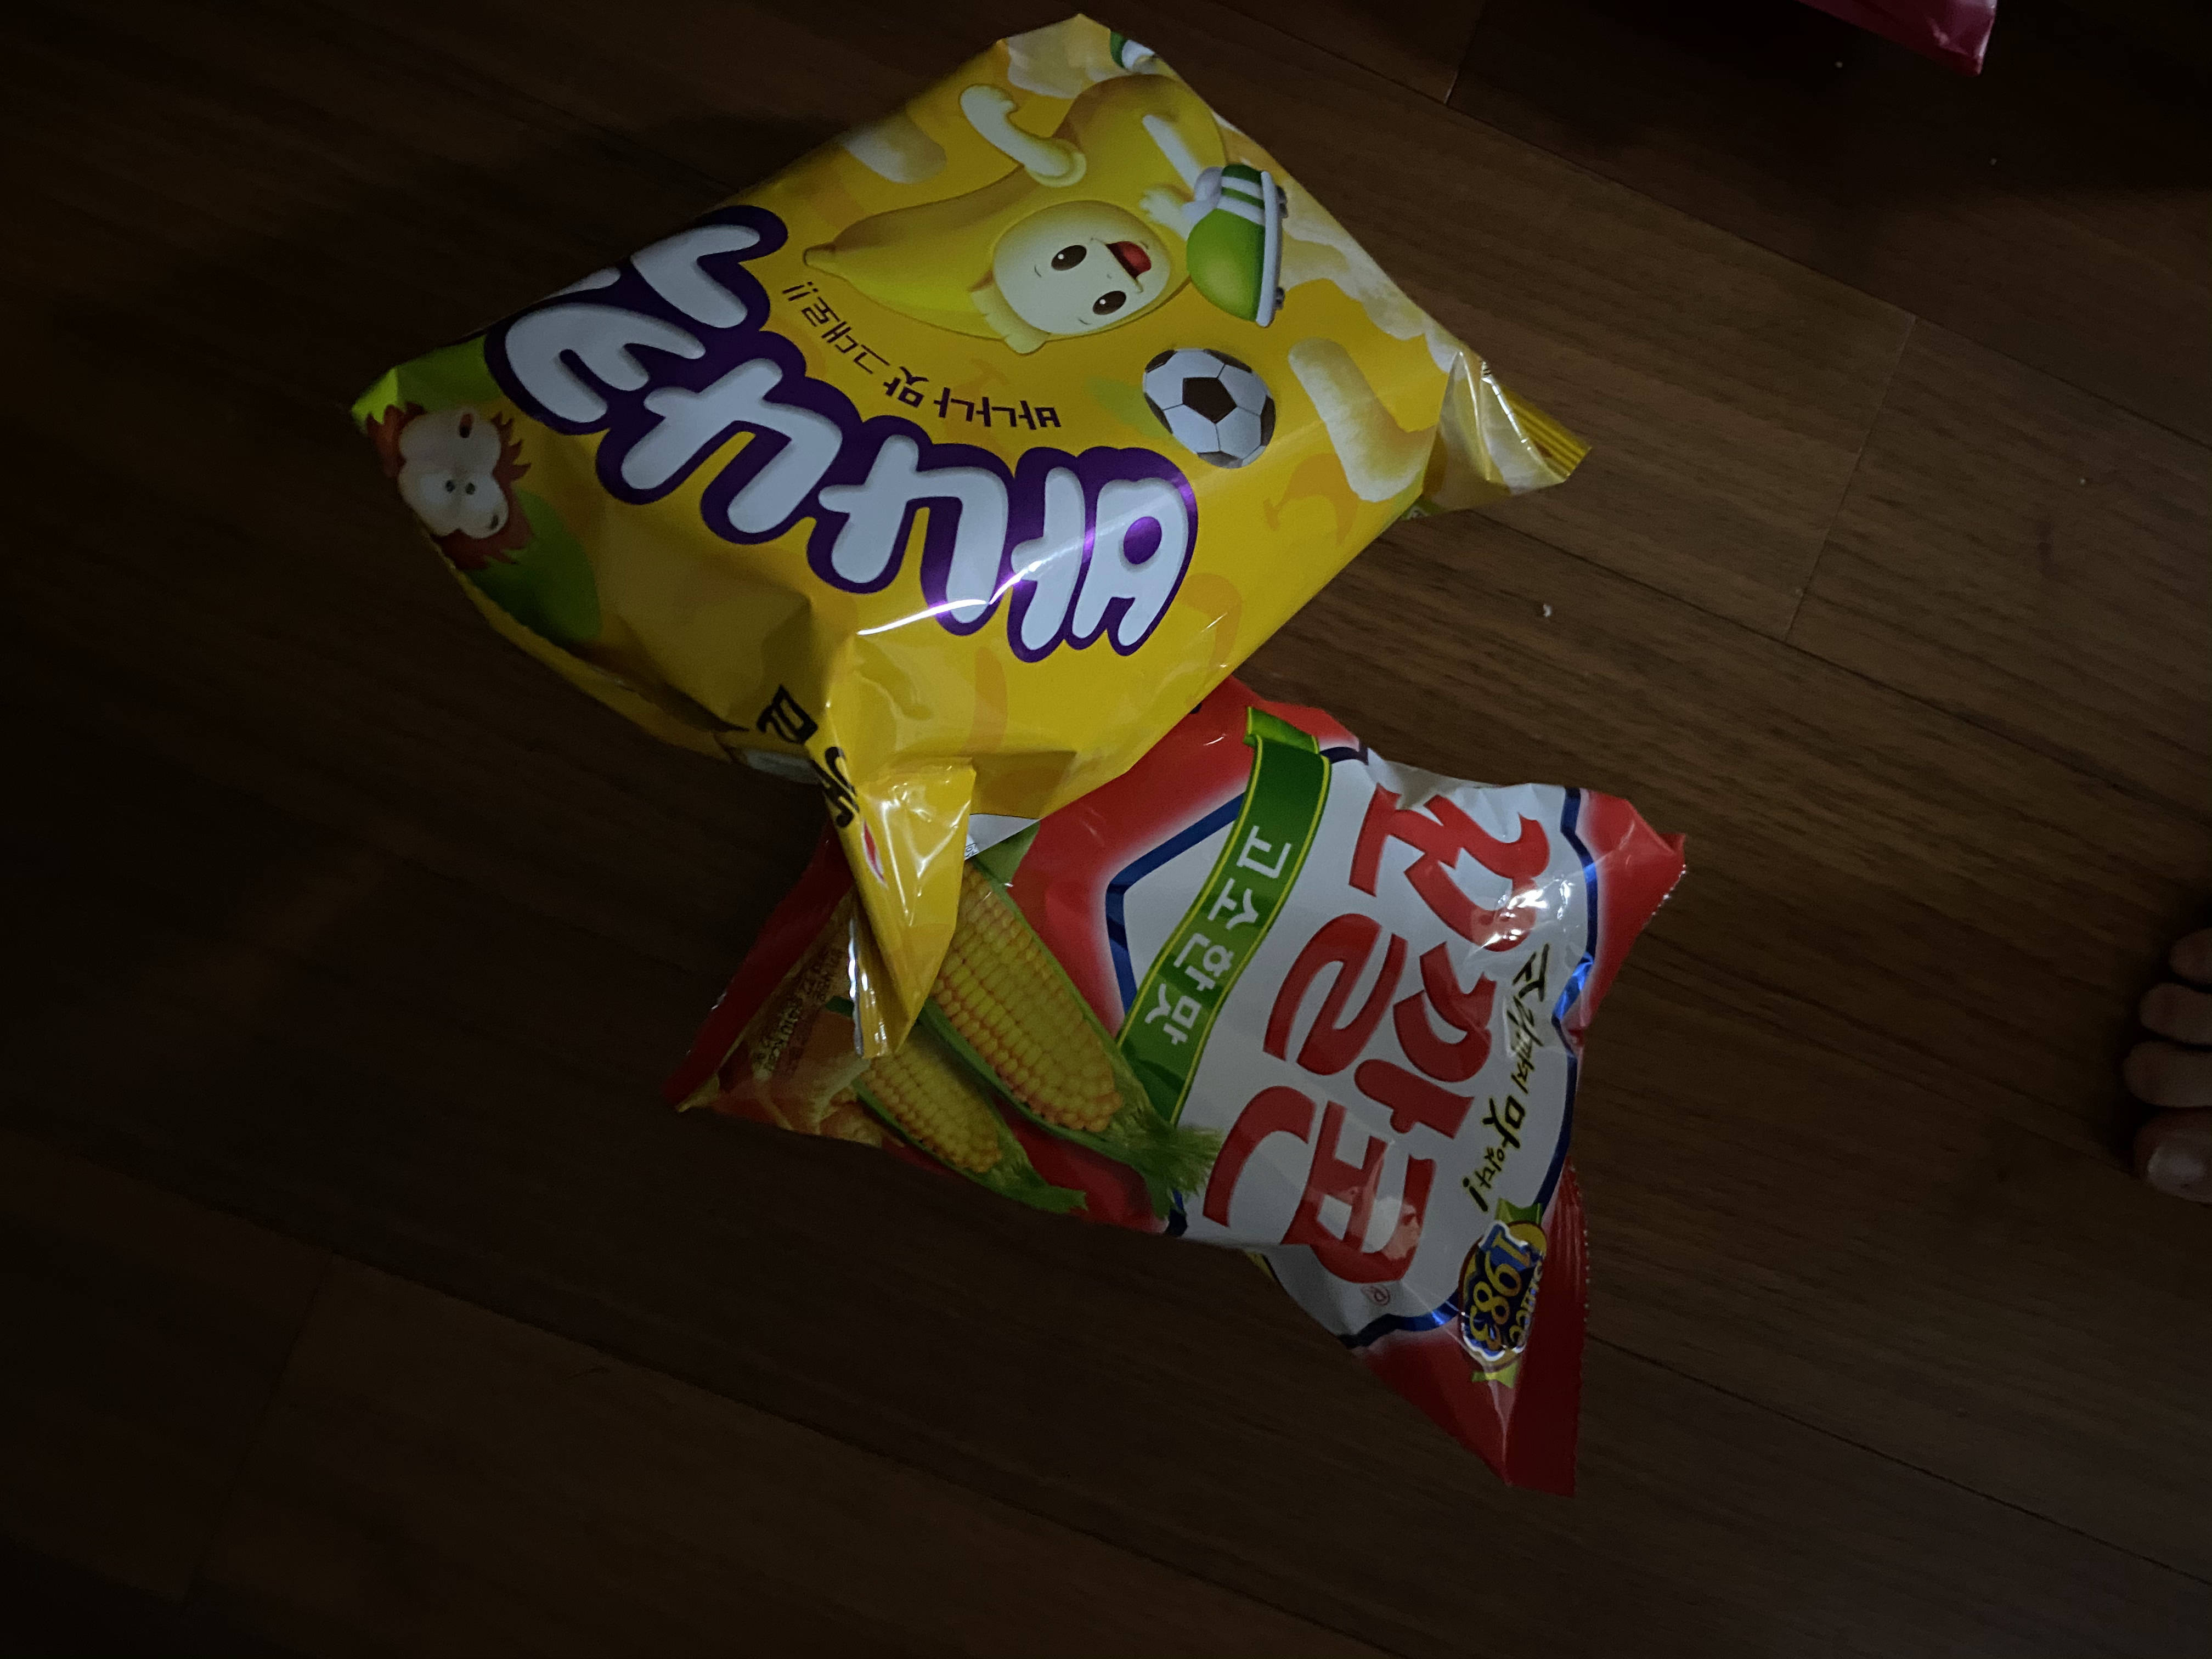banana: (331, 0, 1594, 1066)
ggoggalcon: (634, 633, 1703, 1506)
